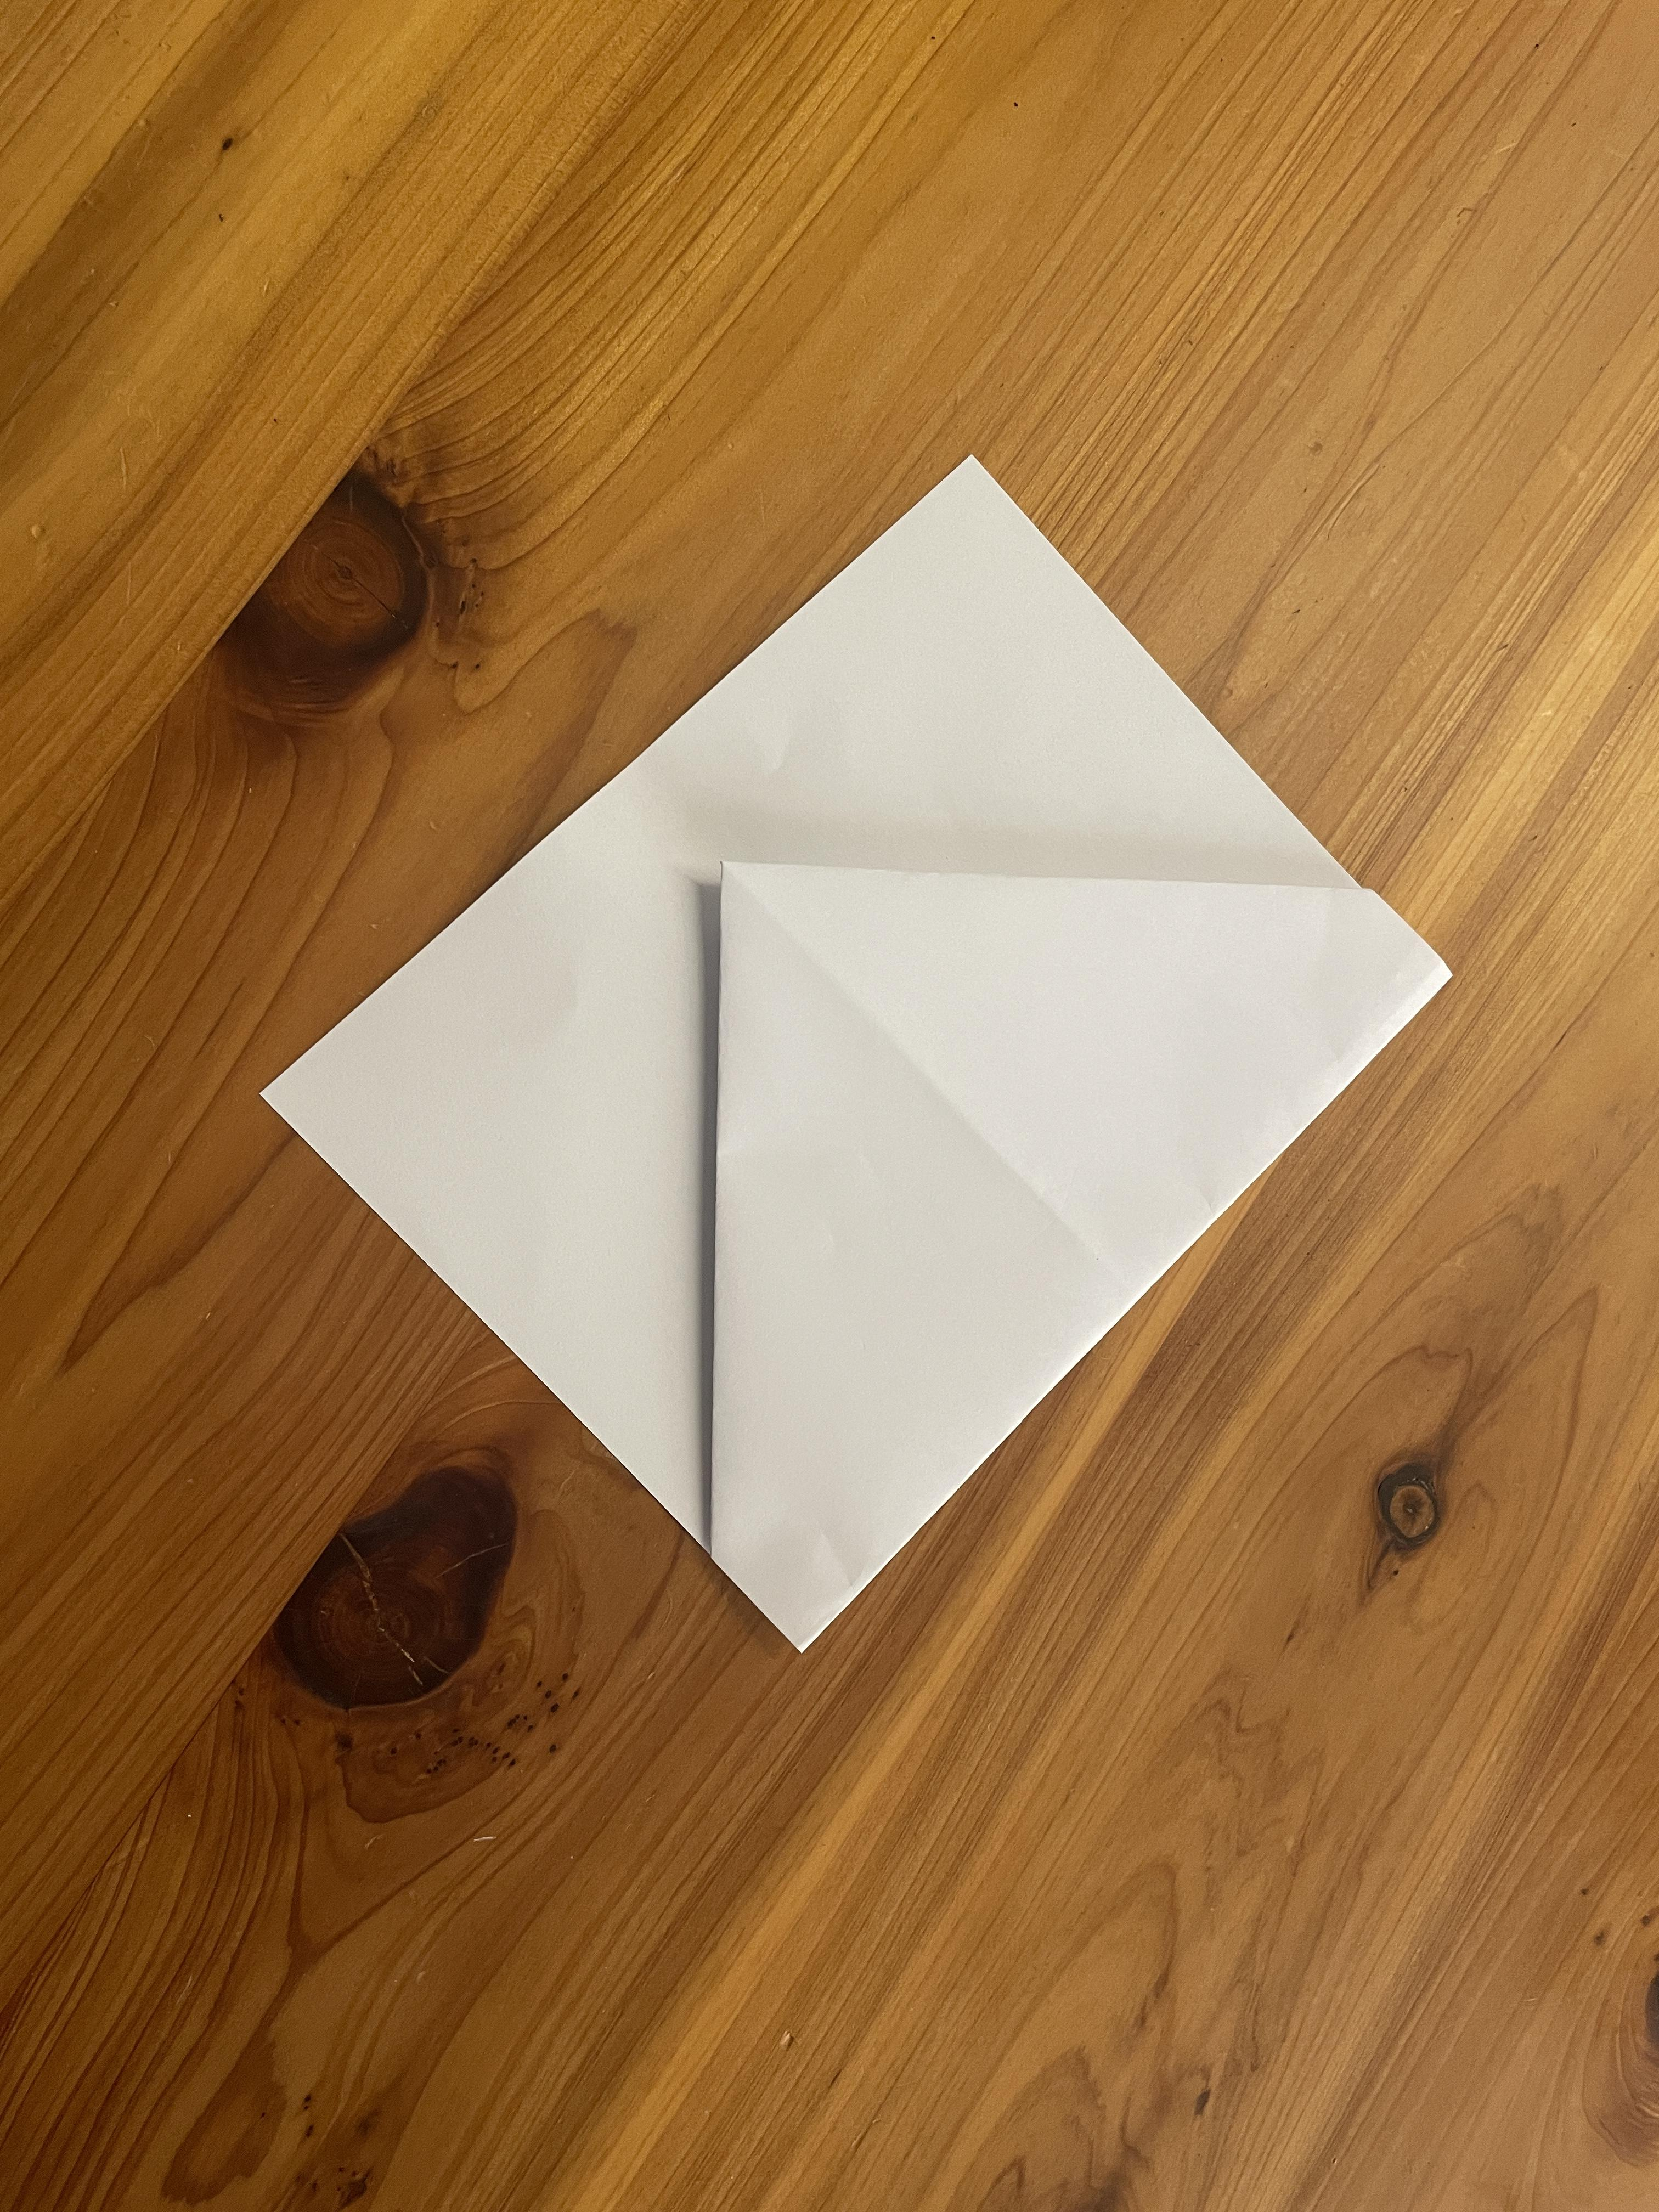shape_1: (235, 408, 1513, 1740)
